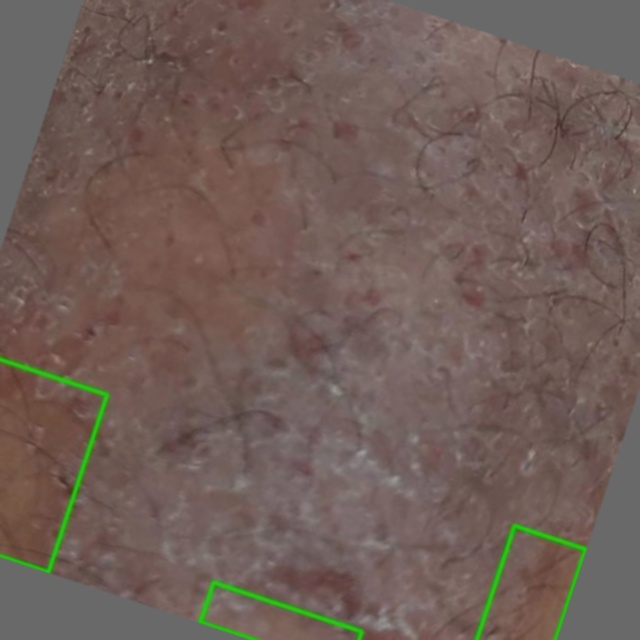Eczema: (200, 582, 361, 639)
